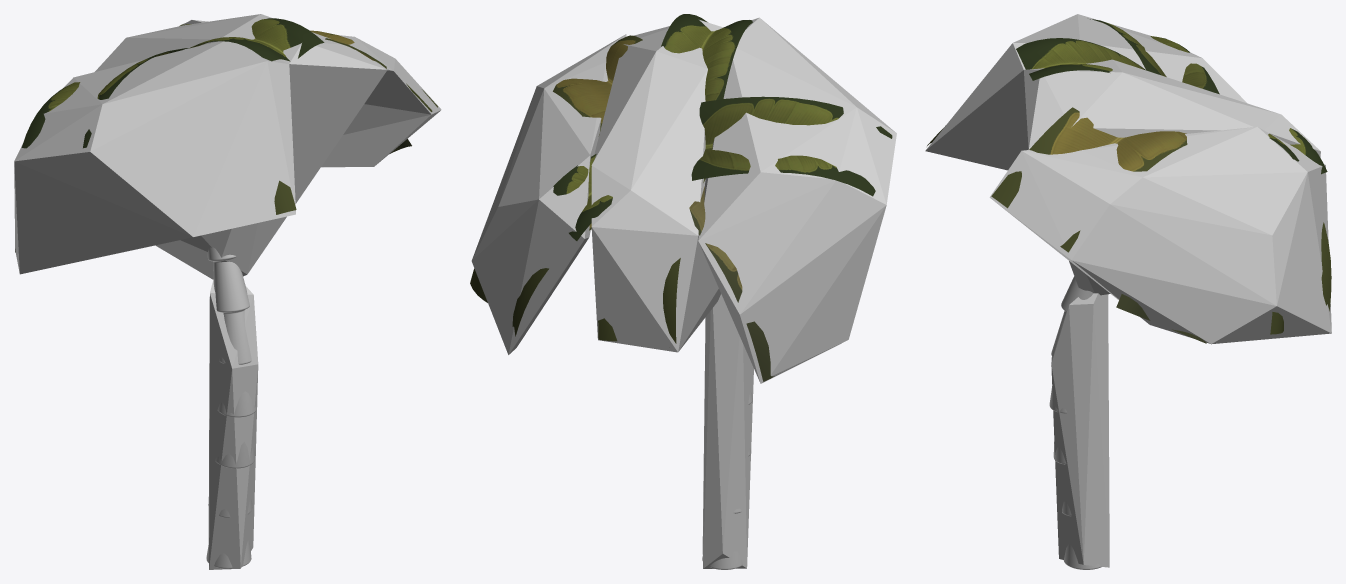
The model's file is SM_CoconutTree_01.fbx.
3 views of the same model, side by side, from view 1: azimuth 30°, elevation 25°; view 2: azimuth 150°, elevation 25°; view 3: azimuth 270°, elevation 25° (orthographic).
Parts seen in each view (by area): view 1: SM_CoconutTree_01_ConvexHulls, SM_CoconutTree_01; view 2: SM_CoconutTree_01_ConvexHulls, SM_CoconutTree_01; view 3: SM_CoconutTree_01_ConvexHulls, SM_CoconutTree_01.
Part boxes in pixels (left/top/right/bottom): SM_CoconutTree_01_ConvexHulls: left=14, top=14, right=441, bottom=569; SM_CoconutTree_01: left=15, top=18, right=437, bottom=568; SM_CoconutTree_01_ConvexHulls: left=471, top=17, right=896, bottom=568; SM_CoconutTree_01: left=470, top=14, right=892, bottom=569; SM_CoconutTree_01_ConvexHulls: left=925, top=14, right=1331, bottom=567; SM_CoconutTree_01: left=927, top=19, right=1331, bottom=569.
Bounding box in the file's own units: 585 × 528 × 753.
Materials: 3 (1 with a texture image).
